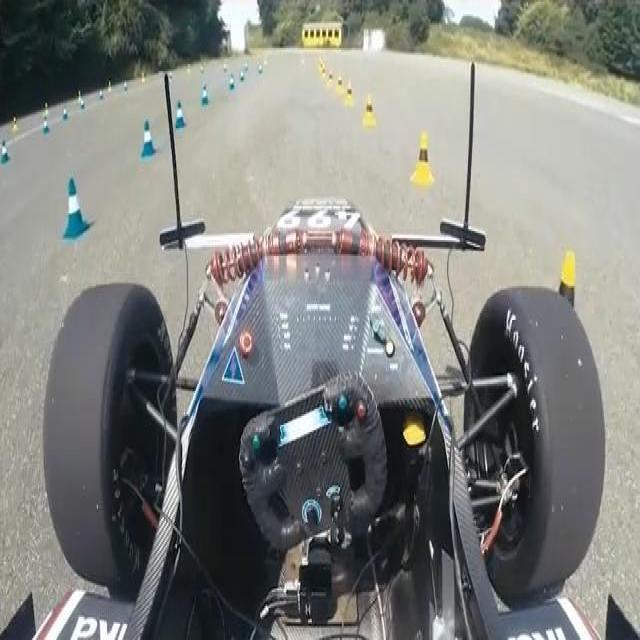blue_cone: (63, 176, 92, 241), (141, 119, 156, 158), (174, 100, 187, 128), (201, 84, 210, 107)
yellow_cone: (543, 249, 583, 363), (410, 132, 435, 190), (363, 94, 377, 129), (344, 80, 355, 107)
